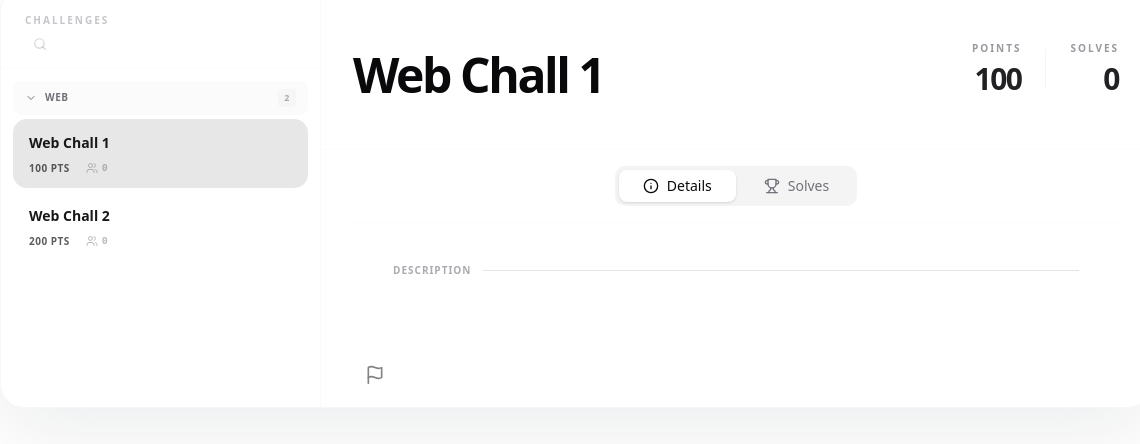
Test case: SidebarChallengeView › switches between challenges without changing the URL hash
Expected: the heading "Web Chall 1" is shown, [353,45,604,109]
Click the button "Web Chall 2 200 pts 0": {"x": 69, "y": 215} [13,192,308,260]
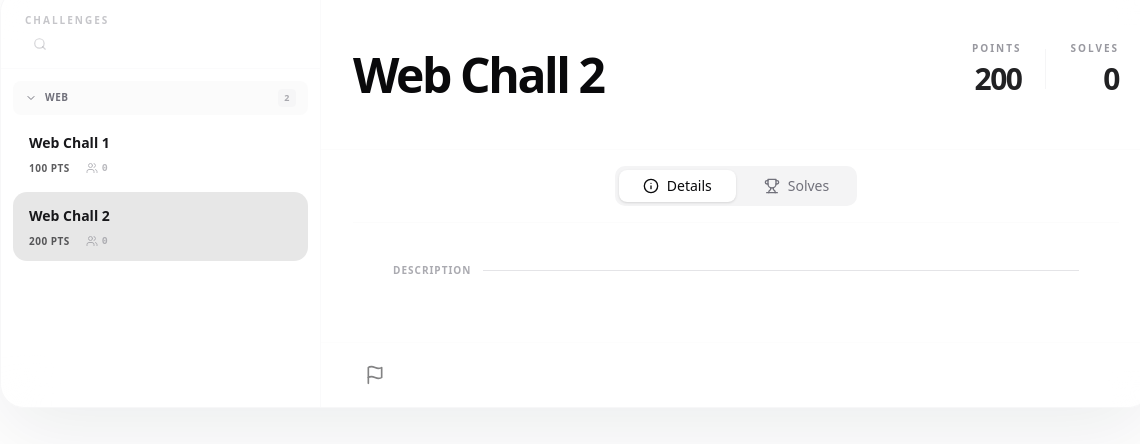
Expected: the heading "Web Chall 2" is shown, [353,45,604,109]
Click the button "Web Chall 1 100 pts 0": {"x": 69, "y": 142} [13,118,308,188]
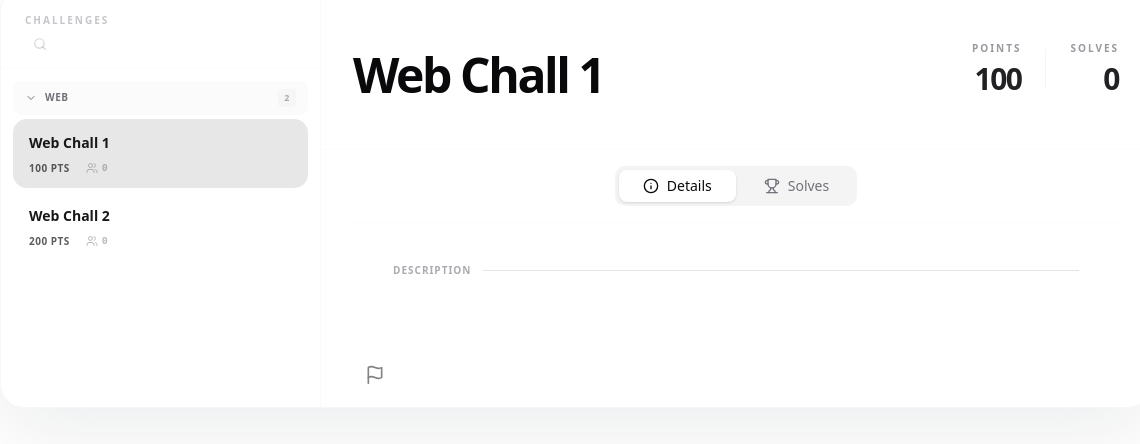
Expected: the heading "Web Chall 1" is shown, [353,45,604,109]
